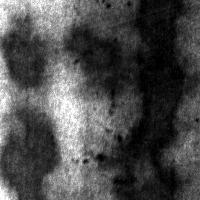patches: (130, 1, 197, 161), (47, 0, 145, 94), (100, 127, 179, 199), (1, 106, 60, 199), (63, 26, 128, 107), (1, 13, 47, 88)
